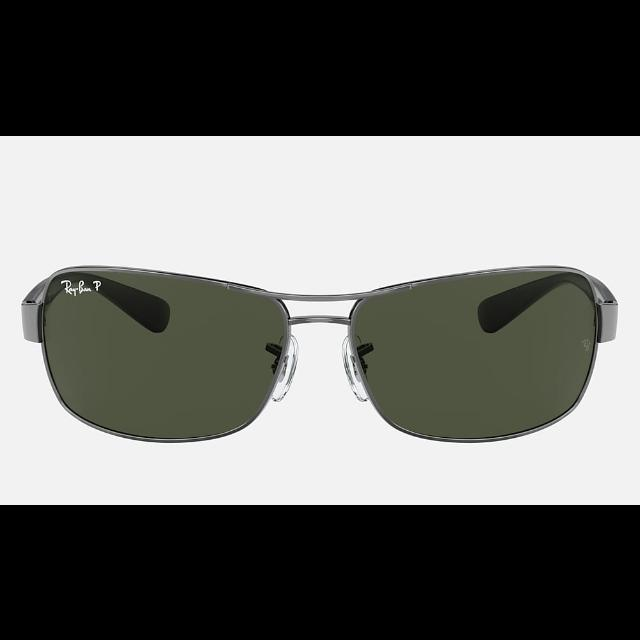Sunglasses: (23, 264, 621, 444)
